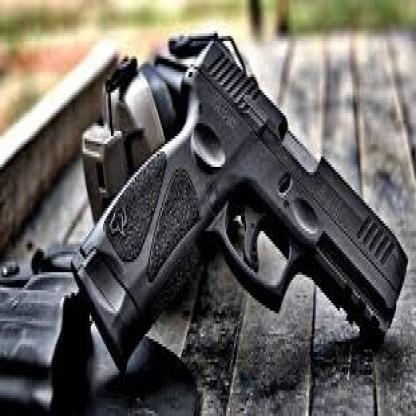Pistol: (70, 31, 410, 372)
